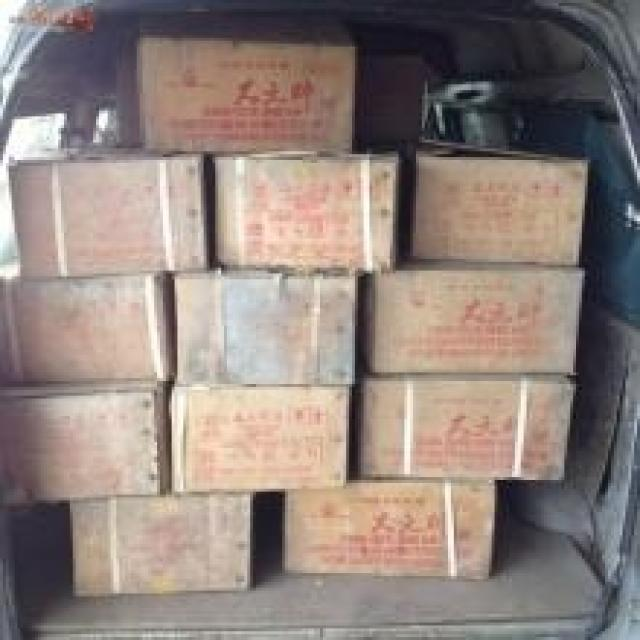box: (5, 147, 210, 275), (363, 255, 581, 374), (133, 39, 353, 153), (350, 375, 570, 479), (176, 267, 362, 386), (404, 144, 584, 266), (212, 154, 396, 272), (1, 381, 175, 505), (282, 479, 495, 580), (166, 388, 349, 495), (68, 491, 251, 597), (11, 274, 174, 383)
